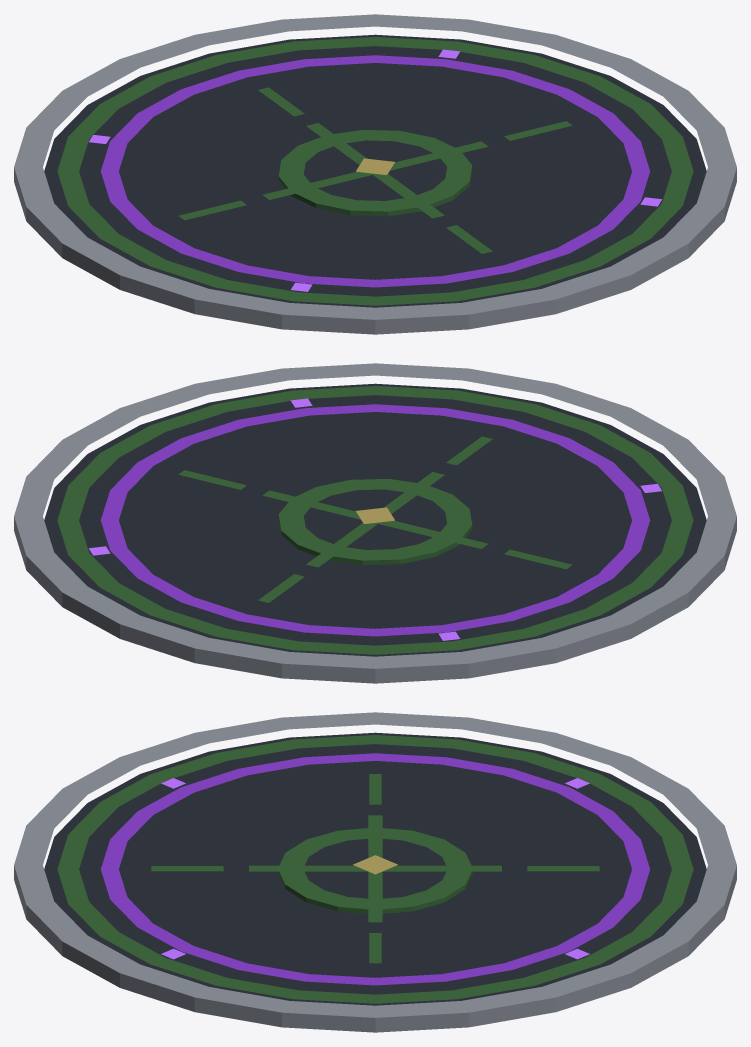
The model's file is sniper_rare_area.glb.
3 views of the same model, one above another, from view 1: azimuth 30°, elevation 25°; view 2: azimuth 150°, elevation 25°; view 3: azimuth 270°, elevation 25° (orthographic).
Visible parts, largest first — view 1: sniper_rare_area; view 2: sniper_rare_area; view 3: sniper_rare_area.
Boxes of the visible parts, bbox=[...] form: sniper_rare_area: bbox=[14, 14, 736, 334]; sniper_rare_area: bbox=[14, 363, 736, 683]; sniper_rare_area: bbox=[14, 712, 736, 1032].
Size of the model in its own units: 2 by 0.046 by 2.
Materials: 2 (2 with a texture image).
